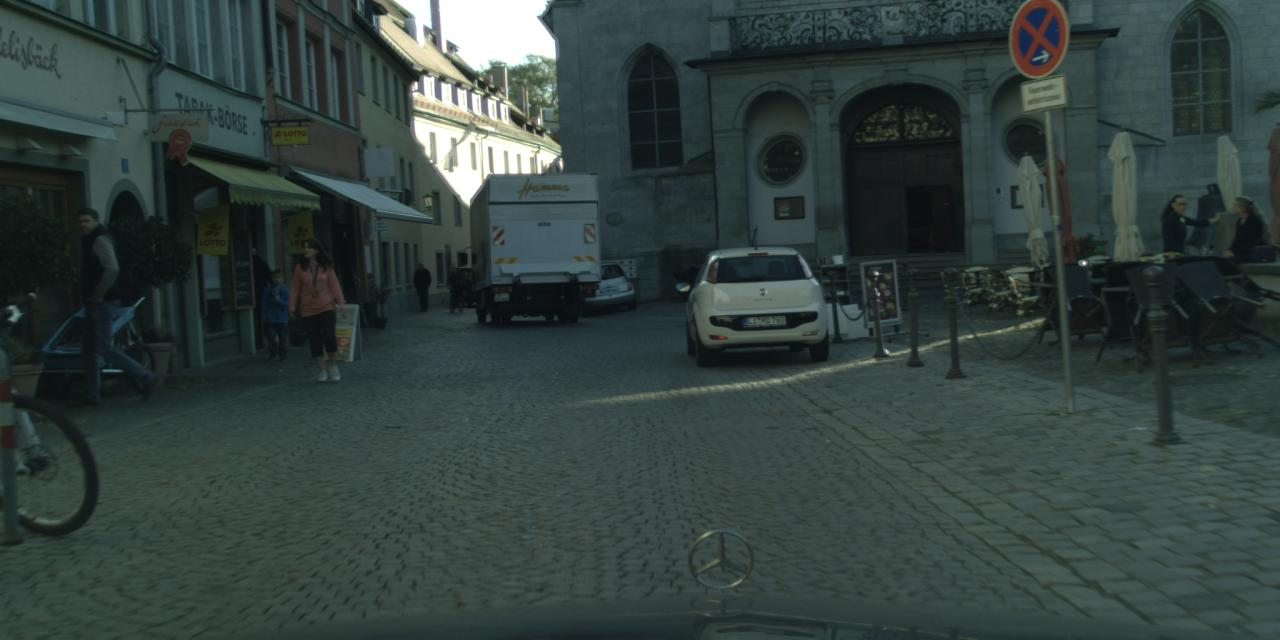ped: (64, 206, 144, 399), (290, 238, 348, 380), (1152, 194, 1200, 311), (232, 247, 274, 349), (258, 268, 296, 361), (412, 262, 432, 310), (448, 268, 462, 300)
